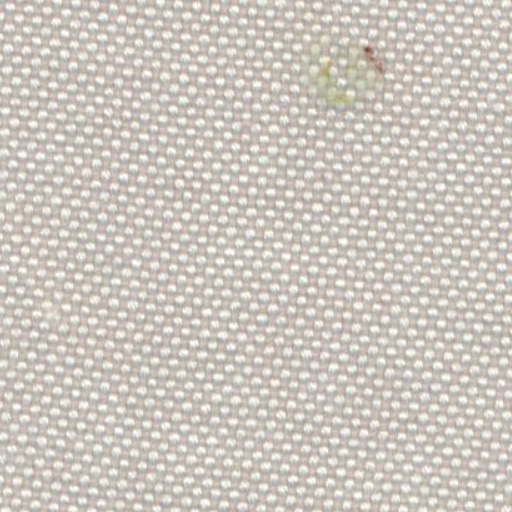WuZi: (296, 22, 396, 126)
